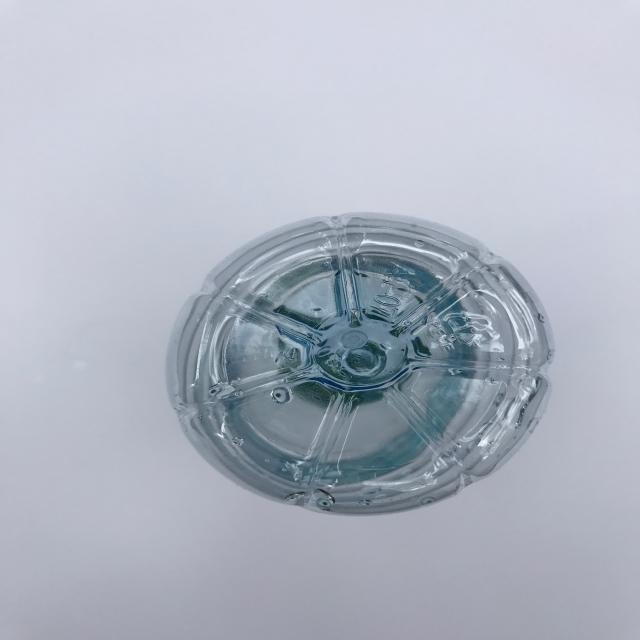plastic: (164, 210, 556, 516)
